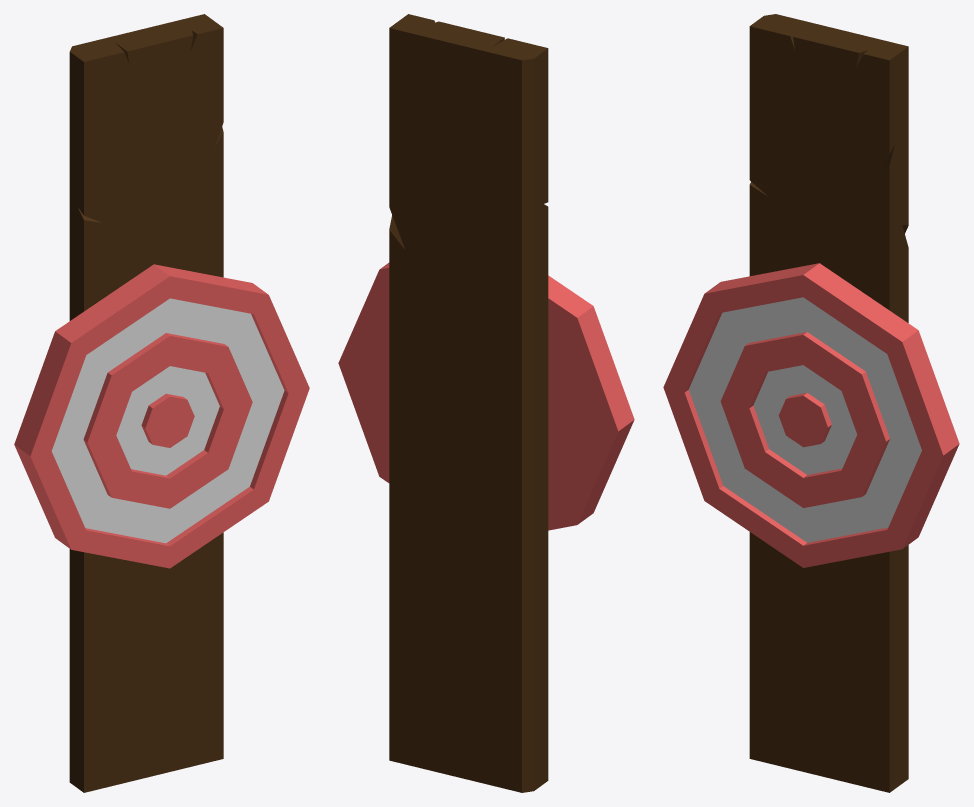
Rendered from Target.fbx.
3 renders of one model, left to right at view 1: azimuth 30°, elevation 25°; view 2: azimuth 150°, elevation 25°; view 3: azimuth 330°, elevation 25°, orthographic.
Parts seen in each view (by area): view 1: Plank, TargetMesh; view 2: Plank, TargetMesh; view 3: Plank, TargetMesh.
Boxes of the visible parts, <box> form: Plank: <box>69,14,223,792</box>; TargetMesh: <box>14,264,309,568</box>; Plank: <box>389,14,548,792</box>; TargetMesh: <box>338,262,634,530</box>; Plank: <box>749,14,908,792</box>; TargetMesh: <box>663,263,959,567</box>.
Size of the model in its own units: 2 by 5 by 0.4376.
